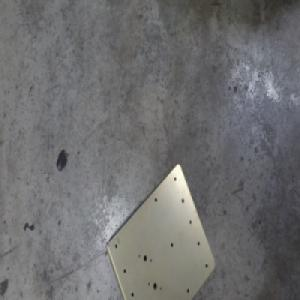MetalSheet: (104, 160, 216, 300)
